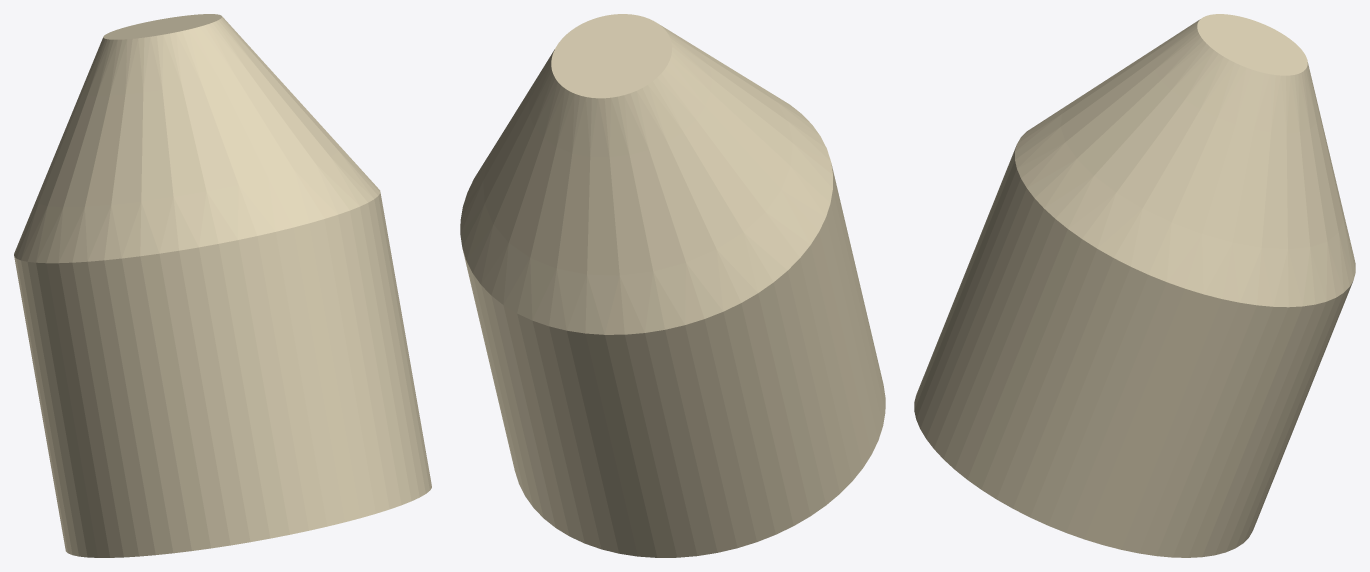
Rendered from ignition-lead-5-cap-contact.glb.
The picture shows the model from 3 angles, left to right: view 1: azimuth 30°, elevation 25°; view 2: azimuth 150°, elevation 25°; view 3: azimuth 270°, elevation 25°; orthographic projection. The views are drawn at different scales.
Visible parts, largest first — view 1: world; view 2: world; view 3: world.
Part boxes in pixels (left/top/right/bottom): world: left=14, top=14, right=431, bottom=557; world: left=460, top=14, right=885, bottom=557; world: left=914, top=14, right=1355, bottom=557.
Size of the model in its own units: 0.0074 by 0.0111 by 0.009.
